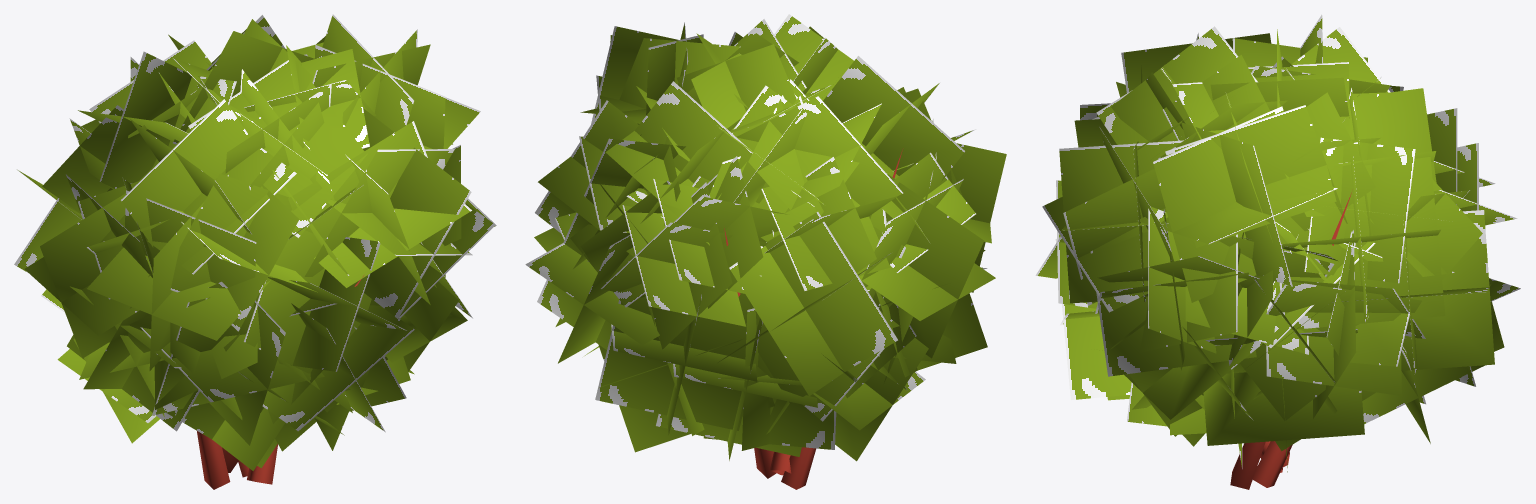
The model's file is Bush1.fbx.
3 views of the same model, side by side, from view 1: azimuth 30°, elevation 25°; view 2: azimuth 150°, elevation 25°; view 3: azimuth 270°, elevation 25° (orthographic). The views are drawn at different scales.
Parts seen in each view (by area): view 1: Bush1_LOD0; view 2: Bush1_LOD0; view 3: Bush1_LOD0.
Part boxes in pixels (x1,y1,x2,y2): Bush1_LOD0: [14, 14, 496, 489]; Bush1_LOD0: [525, 14, 1006, 489]; Bush1_LOD0: [1035, 14, 1520, 489].
Size of what is drawn, in the model's own units: 1.69 by 1.73 by 1.66.
